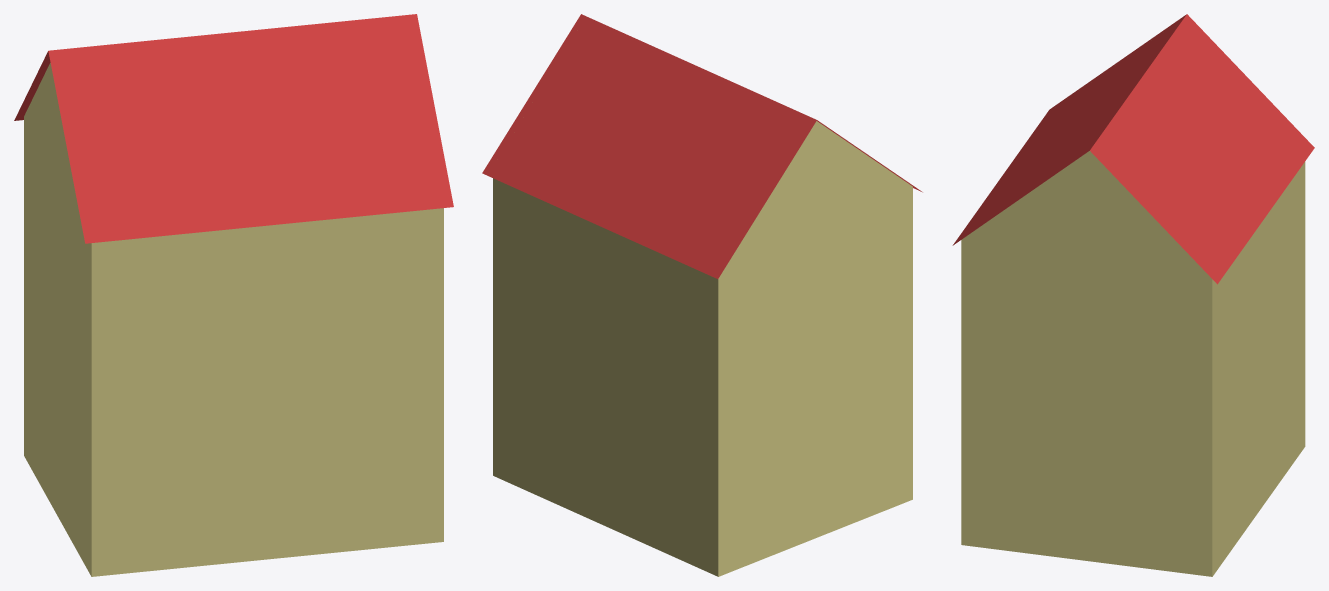
3 renders of one model, left to right at view 1: azimuth 30°, elevation 25°; view 2: azimuth 150°, elevation 25°; view 3: azimuth 270°, elevation 25°, orthographic. The views are drawn at different scales.
Size of the model in its own units: 13.41 by 12.06 by 15.19.
